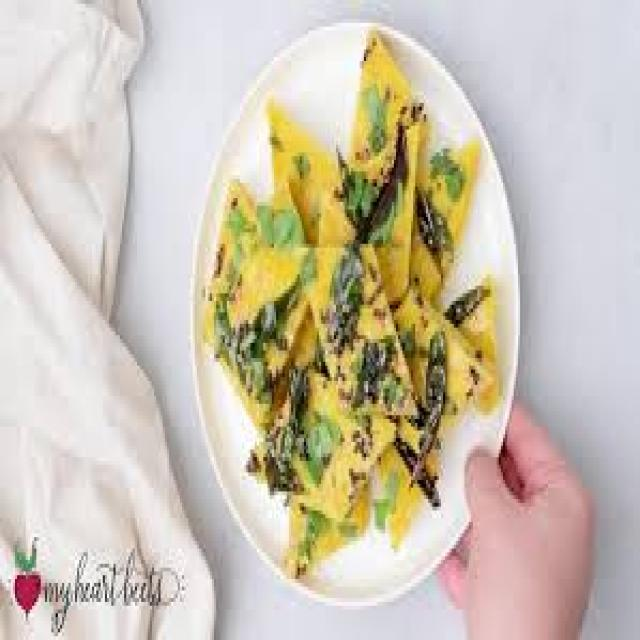DHOKLA: (202, 22, 506, 570)
